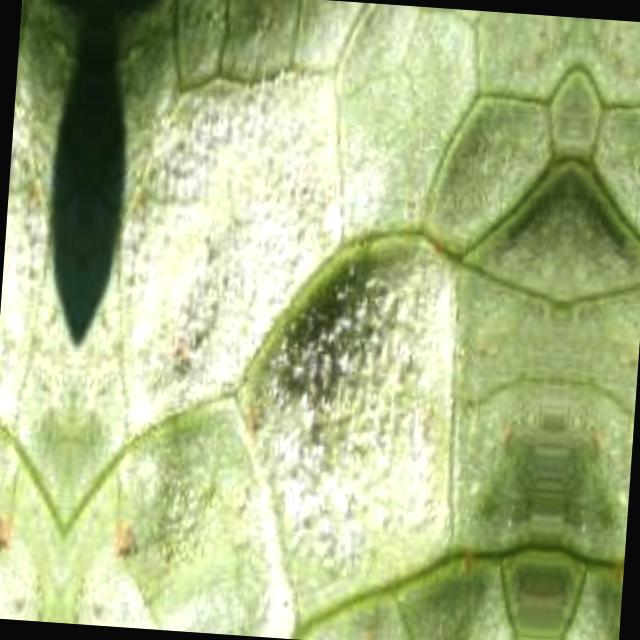Powdery_mildew: (118, 56, 318, 411), (266, 258, 466, 593), (0, 47, 55, 392)
